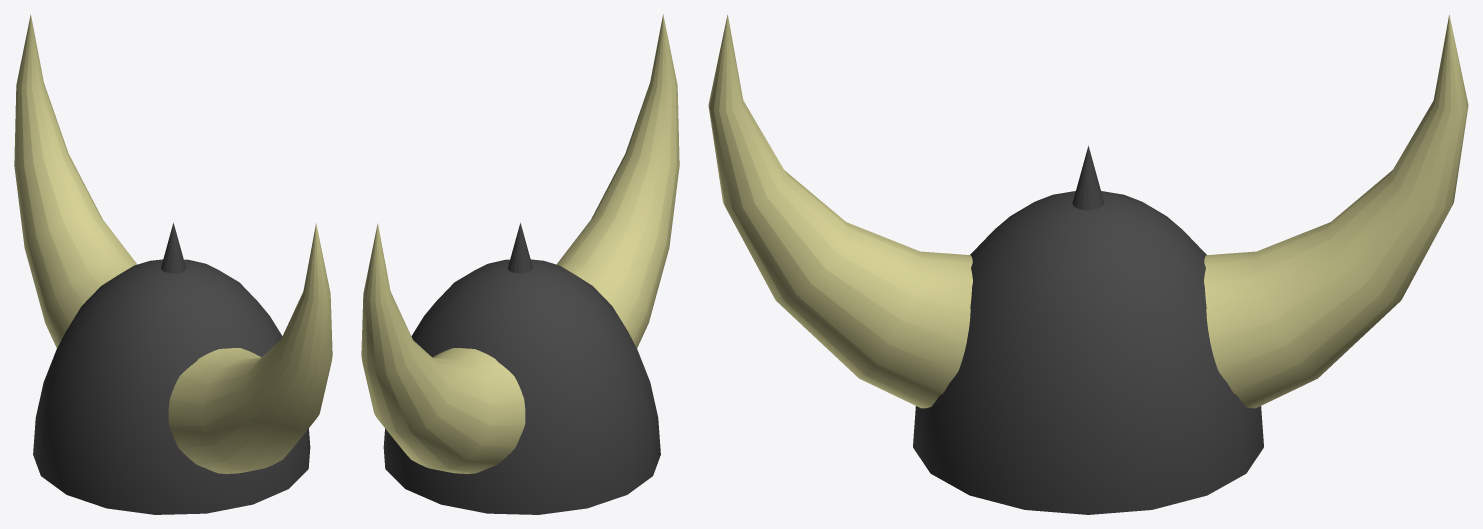
File: Casque_Viking_Item.FBX
3 renders of one model, left to right at view 1: azimuth 30°, elevation 25°; view 2: azimuth 150°, elevation 25°; view 3: azimuth 270°, elevation 25°, orthographic. The views are drawn at different scales.
Visible parts, largest first — view 1: Boolean_D46CF34E; view 2: Boolean_D46CF34E; view 3: Boolean_D46CF34E.
Boxes of the visible parts, left/top/right/bottom form: Boolean_D46CF34E: left=14, top=14, right=332, bottom=514; Boolean_D46CF34E: left=361, top=14, right=679, bottom=514; Boolean_D46CF34E: left=708, top=15, right=1468, bottom=514.
Bounding box in the file's own units: 74.36 × 162 × 100.
